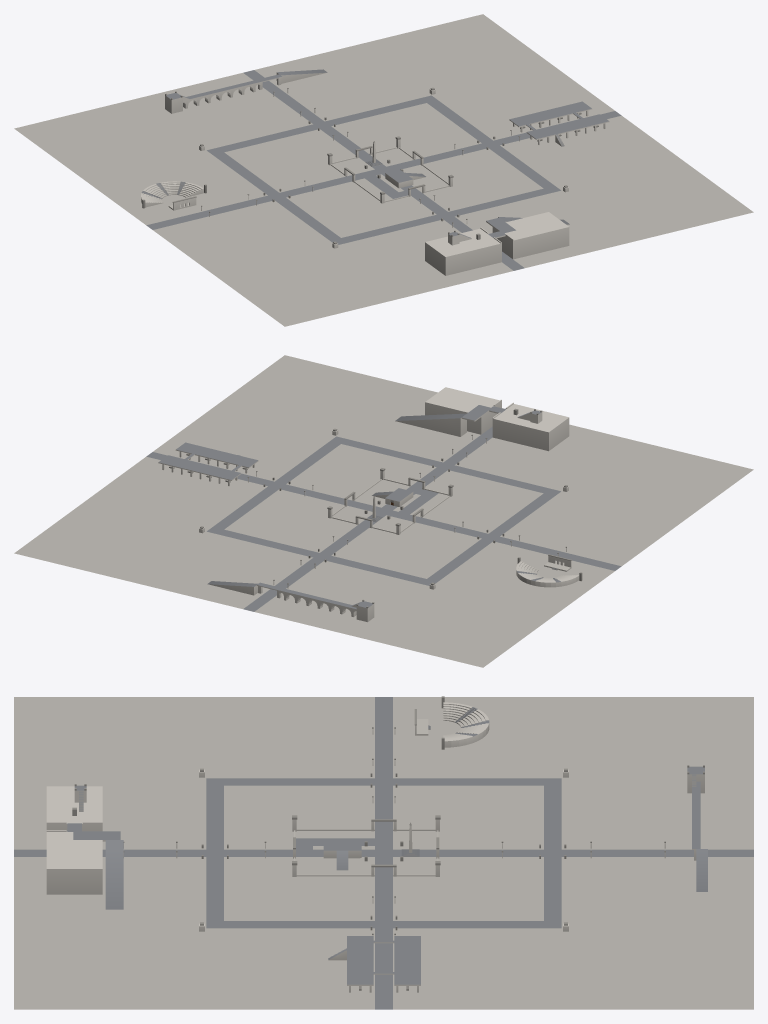
The model's file is world.glb.
3 views of the same model, one above another, from view 1: azimuth 30°, elevation 25°; view 2: azimuth 150°, elevation 25°; view 3: azimuth 270°, elevation 25° (orthographic). The views are drawn at different scales.
Parts seen in each view (by area): view 1: North rise bank, North rise bank.001, ws_terrain_ground_0_0, ws_terrain_ground_0_1, ws_terrain_ground_0_15, ws_terrain_ground_17_1, ws_terrain_ground_17_15, ws_terrain_ground_17_16, ws_terrain_ground_0_16, ws_terrain_ground_1_16, ws_terrain_ground_16_0, ws_terrain_ground_17_0 (+61 smaller); view 2: North rise bank, ws_terrain_ground_0_1, ws_terrain_ground_0_15, ws_terrain_ground_0_16, ws_terrain_ground_17_0, ws_terrain_ground_17_1, ws_terrain_ground_17_15, ws_terrain_ground_0_0, ws_terrain_ground_1_0, ws_terrain_ground_16_16, ws_terrain_ground_17_16, ws_terrain_ground_1_15 (+64 smaller); view 3: ws_terrain_ground_1_15, ws_terrain_ground_16_0, ws_terrain_ground_16_15, ws_terrain_ground_17_0, ws_terrain_ground_17_15, ws_terrain_ground_1_1, ws_terrain_ground_1_16, ws_terrain_ground_16_1, ws_terrain_ground_16_16, ws_terrain_ground_17_1, ws_terrain_ground_17_16, ws_terrain_ground_0_0 (+113 smaller).
Boxes of the visible parts, x1,y1,x2,y2 form: North rise bank: (425, 228, 501, 275); North rise bank.001: (492, 212, 569, 259); ws_terrain_ground_0_0: (14, 114, 105, 153); ws_terrain_ground_0_1: (48, 139, 139, 177); ws_terrain_ground_0_15: (217, 263, 309, 301); ws_terrain_ground_17_1: (458, 39, 550, 77); ws_terrain_ground_17_15: (628, 163, 719, 201); ws_terrain_ground_17_16: (662, 187, 753, 226); ws_terrain_ground_0_16: (251, 288, 342, 326); ws_terrain_ground_1_16: (310, 273, 401, 312); ws_terrain_ground_16_0: (366, 28, 457, 67); ws_terrain_ground_17_0: (425, 14, 516, 52); North rise bank: (492, 404, 569, 451); ws_terrain_ground_0_1: (458, 604, 550, 642); ws_terrain_ground_0_15: (628, 480, 719, 518); ws_terrain_ground_0_16: (662, 455, 753, 494); ws_terrain_ground_17_0: (14, 528, 105, 567); ws_terrain_ground_17_1: (48, 504, 139, 542); ws_terrain_ground_17_15: (217, 380, 309, 418); ws_terrain_ground_0_0: (425, 629, 516, 667); ws_terrain_ground_1_0: (366, 614, 457, 653); ws_terrain_ground_16_16: (310, 369, 401, 408); ws_terrain_ground_17_16: (251, 355, 342, 393); ws_terrain_ground_1_15: (569, 466, 660, 504); ws_terrain_ground_1_15: (106, 736, 198, 775); ws_terrain_ground_16_0: (661, 931, 753, 970); ws_terrain_ground_16_15: (106, 931, 198, 970); ws_terrain_ground_17_0: (661, 970, 753, 1009); ws_terrain_ground_17_15: (106, 970, 198, 1009); ws_terrain_ground_1_1: (569, 736, 661, 775); ws_terrain_ground_1_16: (14, 736, 106, 775); ws_terrain_ground_16_1: (569, 931, 661, 970); ws_terrain_ground_16_16: (14, 931, 106, 970); ws_terrain_ground_17_1: (569, 970, 661, 1009); ws_terrain_ground_17_16: (14, 970, 106, 1009); ws_terrain_ground_0_0: (661, 697, 753, 735).
Size of the model in its own units: 500 by 29.6 by 500.
Materials: 3 (1 with a texture image).
